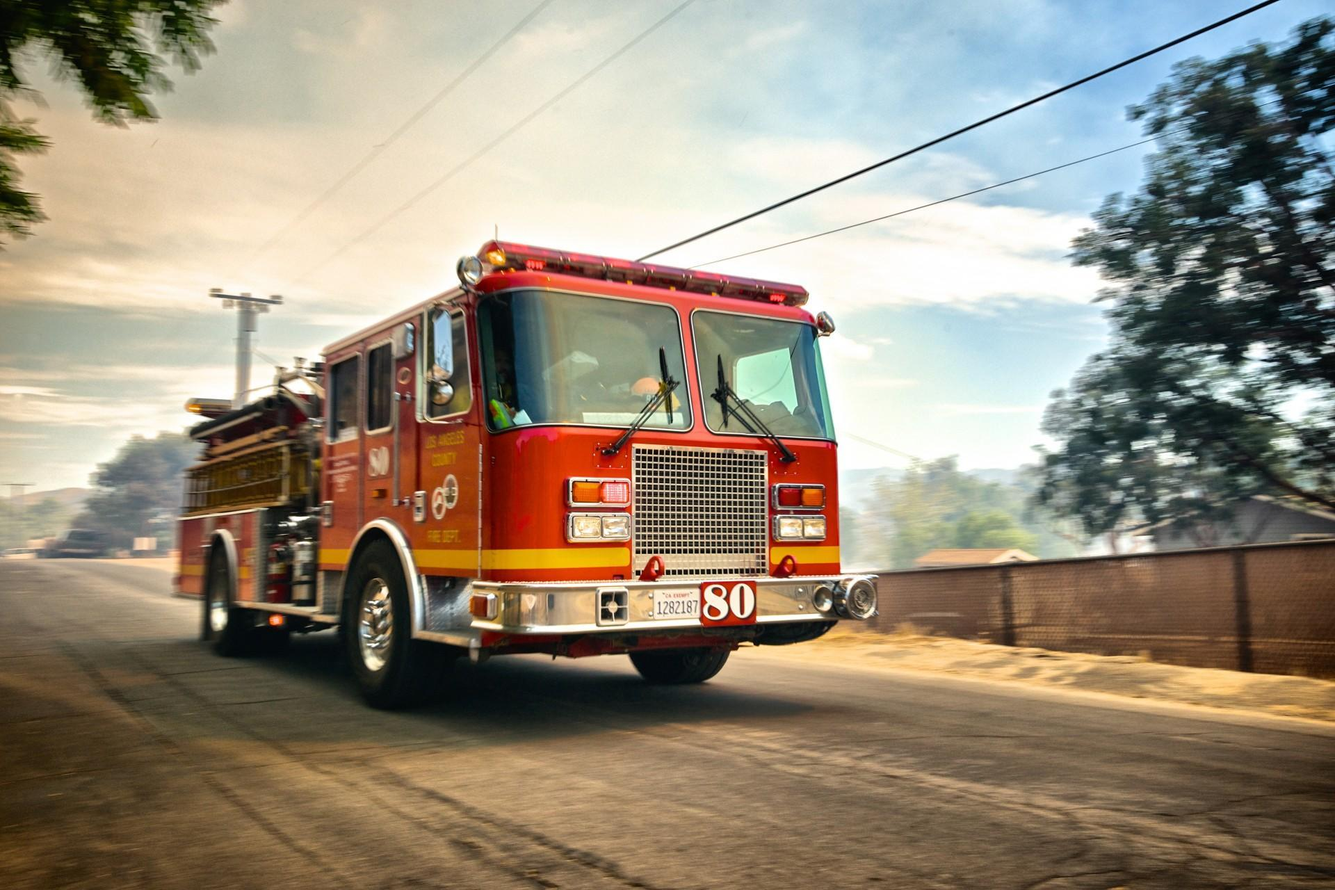Fire-engine: (171, 250, 845, 710)
